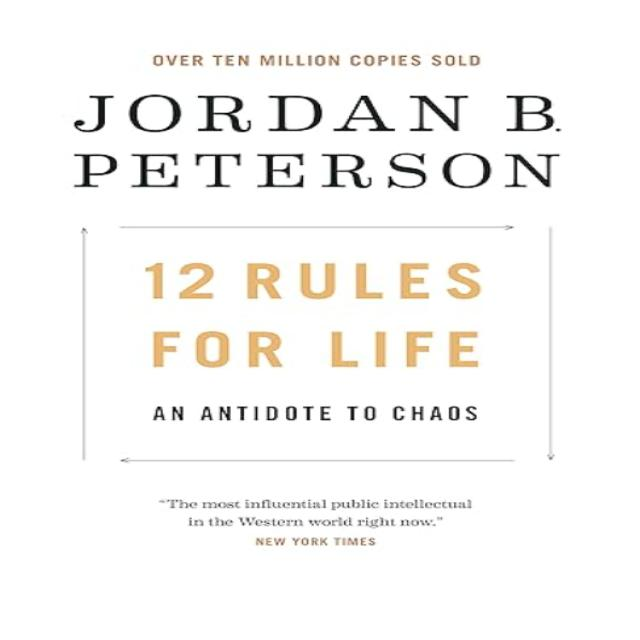titles-or-authors: (131, 252, 494, 431), (62, 85, 574, 197)
